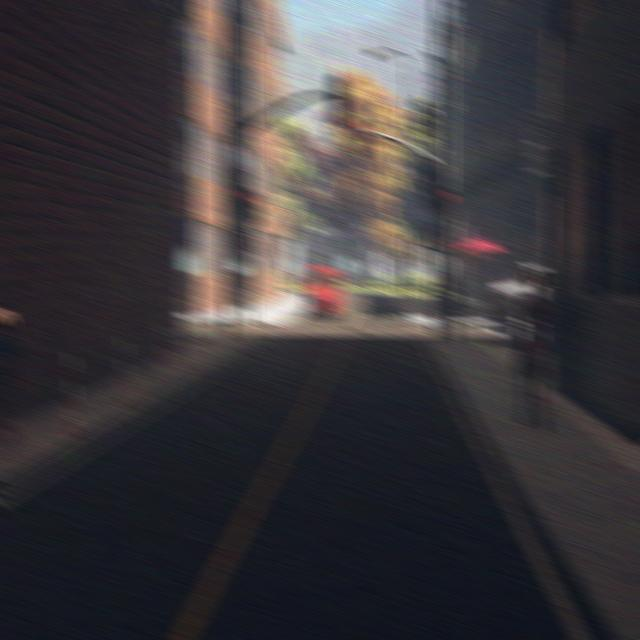speedLimit30: (410, 241, 425, 263)
